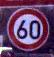Speed Limit -60-: (7, 7, 47, 48)
